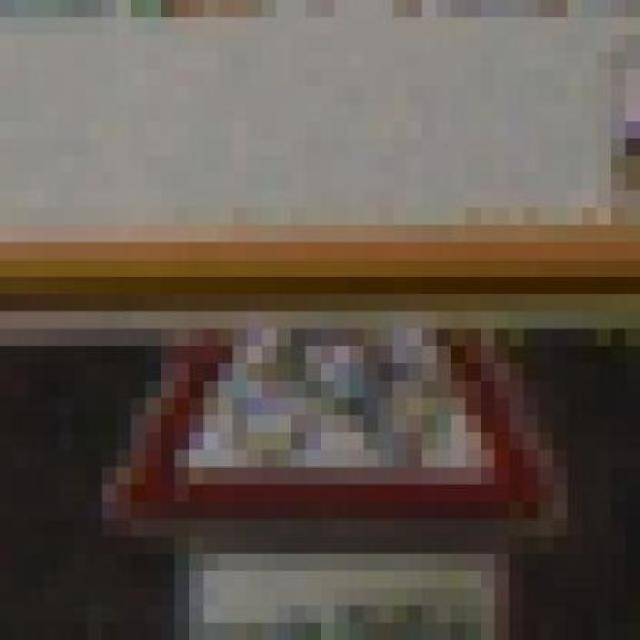CYCLE ROUTE AHEAD WARNING: (87, 329, 567, 553)
